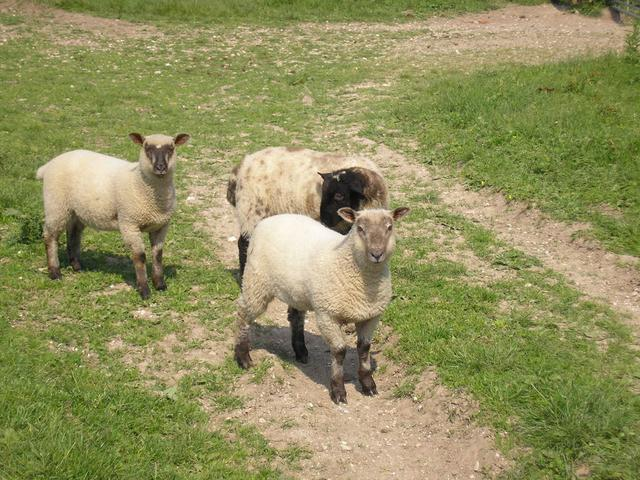sheep: (222, 188, 422, 405), (23, 108, 206, 324)
